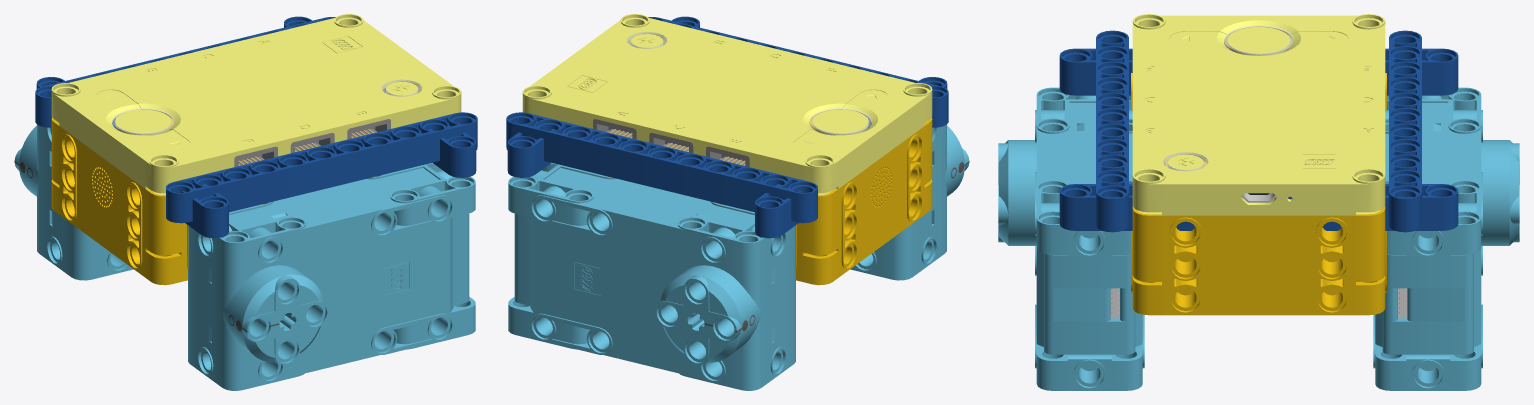
Rendered from drivebase.glb.
3 views of the same model, side by side, from view 1: azimuth 30°, elevation 25°; view 2: azimuth 150°, elevation 25°; view 3: azimuth 270°, elevation 25° (orthographic). The views are drawn at different scales.
Parts seen in each view (by area): view 1: u9393.dat, u9390.dat, u9367.dat (×2), 32525.dat (×4), u9402.dat, u9363p01.dat (×2), u9368.dat (×2), 23807.dat (×3), u9396.dat, u9397.dat (×2), u9395.dat, u9398.dat; view 2: u9393.dat, u9390.dat, u9367.dat (×2), 32525.dat (×4), u9402.dat, u9363p01.dat (×2), u9368.dat (×2), 23807.dat (×3), u9396.dat, u9397.dat (×2), u9395.dat, u9398.dat; view 3: u9393.dat, u9390.dat (×2), u9402.dat, 32525.dat (×4), u9367.dat (×2), u9363p01.dat (×2), u9391.dat (×2), u9396.dat, u9397.dat (×2), u9367c01.dat (×2), u9398.dat, u9395.dat.
Part boxes in pixels (<box>): u9393.dat: <box>51,14,461,194</box>; u9390.dat: <box>306,162,475,364</box>; u9367.dat (×2): <box>26,124,348,390</box>; 32525.dat (×4): <box>35,16,477,238</box>; u9402.dat: <box>51,92,418,285</box>; u9363p01.dat (×2): <box>14,125,328,364</box>; u9368.dat (×2): <box>51,193,308,368</box>; 23807.dat (×3): <box>234,119,390,166</box>; u9396.dat: <box>115,109,171,135</box>; u9397.dat (×2): <box>96,90,189,149</box>; u9395.dat: <box>112,107,174,135</box>; u9398.dat: <box>386,82,418,96</box>; u9393.dat: <box>522,14,932,194</box>; u9390.dat: <box>508,162,677,364</box>; u9367.dat (×2): <box>635,124,957,390</box>; 32525.dat (×4): <box>506,16,948,238</box>; u9402.dat: <box>608,117,932,285</box>; u9363p01.dat (×2): <box>655,125,969,364</box>; u9368.dat (×2): <box>675,193,932,368</box>; 23807.dat (×3): <box>593,119,749,166</box>; u9396.dat: <box>812,109,868,135</box>; u9397.dat (×2): <box>794,90,887,149</box>; u9395.dat: <box>809,107,871,135</box>; u9398.dat: <box>631,34,663,48</box>; u9393.dat: <box>1132,14,1385,215</box>; u9390.dat (×2): <box>1035,150,1482,390</box>; u9402.dat: <box>1131,73,1386,315</box>; 32525.dat (×4): <box>1059,30,1458,232</box>; u9367.dat (×2): <box>1024,87,1493,275</box>; u9363p01.dat (×2): <box>998,140,1519,245</box>; u9391.dat (×2): <box>1054,288,1463,321</box>; u9396.dat: <box>1227,27,1290,55</box>; u9397.dat (×2): <box>1170,31,1347,47</box>; u9367c01.dat (×2): <box>1081,231,1436,371</box>; u9398.dat: <box>1167,154,1203,171</box>; u9395.dat: <box>1224,25,1293,55</box>.
Size of the model in its own units: 8.8 by 5.4 by 11.4.
